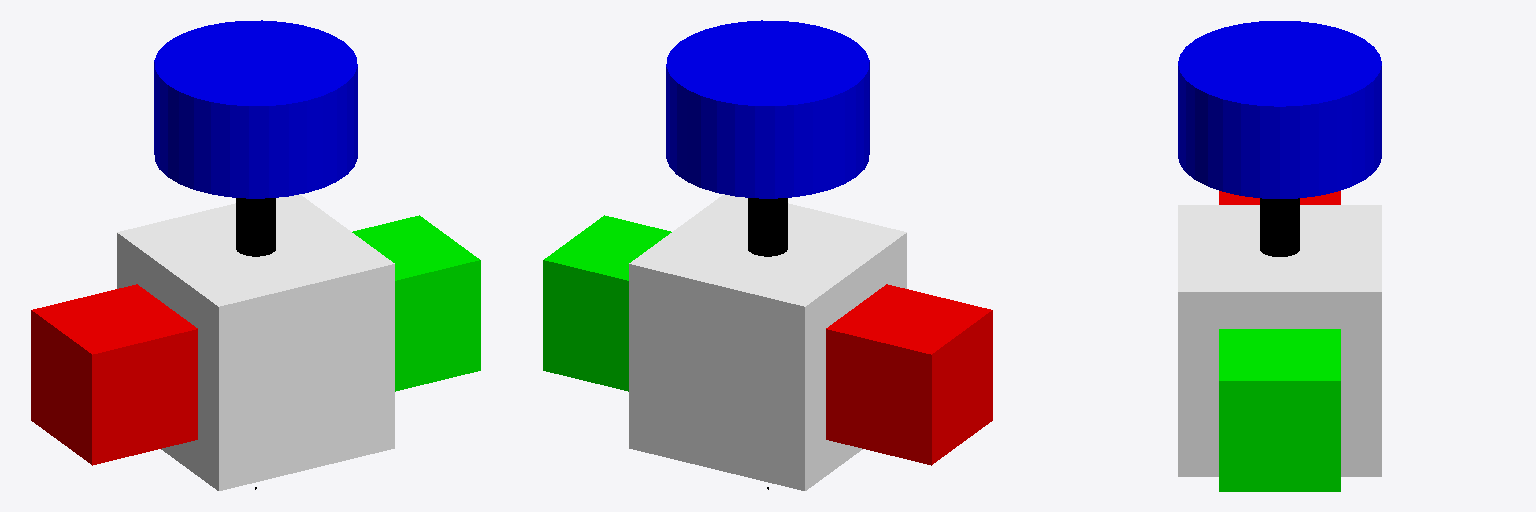
URDF robot description (sim-robot):
<?xml version="1.0" ?>
<!-- =================================================================================== -->
<!-- |    This document was autogenerated by xacro from [local-path]/ros_ws/sim-scene/src/scene/model/xacro/sim-robot.xacro | -->
<!-- |    EDITING THIS FILE BY HAND IS NOT RECOMMENDED                                 | -->
<!-- =================================================================================== -->
<robot name="sim-robot">
  <!-- foot base link -->
  <link name="base_footprint">
    <visual>
      <geometry>
        <box size="0.001 0.001 0.001"/>
      </geometry>
      <material name="black">
        <color rgba="0.0 0.0 0.0 0.8"/>
      </material>
    </visual>
  </link>
  <gazebo reference="base_footprint">
    <material>Gazebo/Black</material>
  </gazebo>
  <gazebo>
    <plugin filename="libgazebo_ros_p3d.so" name="base_footprint_pose">
      <alwaysOn>true</alwaysOn>
      <updateRate>10.0</updateRate>
      <bodyName>base_footprint</bodyName>
      <topicName>base_footprint_ground_truth</topicName>
      <gaussianNoise>0.0</gaussianNoise>
      <frameName>map</frameName>
      <xyzOffsets>0 0 0</xyzOffsets>
      <rpyOffsets>0 0 0</rpyOffsets>
    </plugin>
  </gazebo>
  <!-- base link -->
  <link name="base_link">
    <visual>
      <geometry>
        <box size="0.1 0.1 0.1"/>
      </geometry>
      <material name="white">
        <color rgba="1.0 1.0 1.0 0.8"/>
      </material>
    </visual>
    <collision>
      <geometry>
        <box size="0.1 0.1 0.1"/>
      </geometry>
      <origin rpy="0.0 0.0 0.0" xyz="0.0 0.0 0.0"/>
    </collision>
    <inertial>
      <mass value="0.5"/>
      <inertia ixx="0.0008333333333333335" ixy="0" ixz="0" iyy="0.0008333333333333335" iyz="0" izz="0.0008333333333333335"/>
    </inertial>
  </link>
  <gazebo>
    <plugin filename="libgazebo_ros_p3d.so" name="base_link_pose">
      <alwaysOn>true</alwaysOn>
      <updateRate>10.0</updateRate>
      <bodyName>base_link</bodyName>
      <topicName>base_link_ground_truth</topicName>
      <gaussianNoise>0.0</gaussianNoise>
      <frameName>map</frameName>
      <xyzOffsets>0 0 0</xyzOffsets>
      <rpyOffsets>0 0 0</rpyOffsets>
    </plugin>
  </gazebo>
  <gazebo reference="base_link">
    <material>Gazebo/White</material>
  </gazebo>
  <!-- joint -->
  <joint name="base_to_foot" type="fixed">
    <parent link="base_footprint"/>
    <child link="base_link"/>
    <origin rpy="0.0 0.0 0.0" xyz="0.0 0.0 0.08"/>
    <axis xyz="0.0 0.0 1.0"/>
  </joint>
  <!-- lidar -->
  <link name="arm">
    <visual>
      <geometry>
        <cylinder length="0.05" radius="0.01"/>
      </geometry>
      <origin rpy="0.0 0.0 0.0" xyz="0.0 0.0 0.0"/>
      <material name="black">
        <color rgba="0.0 0.0 0.0 0.8"/>
      </material>
    </visual>
    <collision>
      <geometry>
        <cylinder length="0.05" radius="0.01"/>
      </geometry>
      <origin rpy="0.0 0.0 0.0" xyz="0.0 0.0 0.0"/>
    </collision>
    <inertial>
      <mass value="0.01"/>
      <inertia ixx="2.3333333333333336e-06" ixy="0" ixz="0" iyy="2.3333333333333336e-06" iyz="0" izz="5.000000000000001e-07"/>
    </inertial>
  </link>
  <!-- joint -->
  <joint name="arm_to_base_link" type="fixed">
    <parent link="base_link"/>
    <child link="arm"/>
    <origin rpy="0.0 0.0 0.0" xyz="0.0 0.0 0.07500000000000001"/>
    <axis xyz="0.0 0.0 1.0"/>
  </joint>
  <gazebo reference="arm">
    <material>Gazebo/Black</material>
  </gazebo>
  <!-- lidar -->
  <link name="lidar">
    <visual>
      <geometry>
        <cylinder length="0.05" radius="0.05"/>
      </geometry>
      <origin rpy="0.0 0.0 0.0" xyz="0.0 0.0 0.0"/>
      <material name="blue">
        <color rgba="0.0 0.0 1.0 0.8"/>
      </material>
    </visual>
    <collision>
      <geometry>
        <cylinder length="0.05" radius="0.05"/>
      </geometry>
      <origin rpy="0.0 0.0 0.0" xyz="0.0 0.0 0.0"/>
    </collision>
    <inertial>
      <mass value="0.02"/>
      <inertia ixx="1.666666666666667e-05" ixy="0" ixz="0" iyy="1.666666666666667e-05" iyz="0" izz="2.5e-05"/>
    </inertial>
  </link>
  <!-- joint -->
  <joint name="lidar_to_arm" type="fixed">
    <parent link="arm"/>
    <child link="lidar"/>
    <origin rpy="0.0 0.0 0.0" xyz="0.0 0.0 0.05"/>
    <axis xyz="0.0 0.0 1.0"/>
  </joint>
  <gazebo reference="lidar">
    <material>Gazebo/Red</material>
  </gazebo>
  <!-- imu -->
  <link name="imu">
    <visual>
      <geometry>
        <box size="0.06 0.06 0.06"/>
      </geometry>
      <origin rpy="0.0 0.0 0.0" xyz="0.0 0.0 0.0"/>
      <material name="red">
        <color rgba="1.0 0.0 0.0 0.8"/>
      </material>
    </visual>
    <collision>
      <geometry>
        <box size="0.06 0.06 0.06"/>
      </geometry>
      <origin rpy="0.0 0.0 0.0" xyz="0.0 0.0 0.0"/>
    </collision>
    <inertial>
      <mass value="0.01"/>
      <inertia ixx="6e-06" ixy="0" ixz="0" iyy="6e-06" iyz="0" izz="6e-06"/>
    </inertial>
  </link>
  <!-- joint -->
  <joint name="imu_to_base_link" type="fixed">
    <parent link="base_link"/>
    <child link="imu"/>
    <origin rpy="0.0 0.0 0.0" xyz="-0.08 0.0 0.0"/>
    <axis xyz="0.0 0.0 1.0"/>
  </joint>
  <gazebo reference="imu">
    <material>Gazebo/Green</material>
  </gazebo>
  <!-- camera -->
  <link name="camera">
    <visual>
      <geometry>
        <box size="0.06 0.06 0.06"/>
      </geometry>
      <origin rpy="0.0 0.0 0.0" xyz="0.0 0.0 0.0"/>
      <material name="green">
        <color rgba="0.0 1.0 0.0 0.8"/>
      </material>
    </visual>
    <collision>
      <geometry>
        <box size="0.06 0.06 0.06"/>
      </geometry>
      <origin rpy="0.0 0.0 0.0" xyz="0.0 0.0 0.0"/>
    </collision>
    <inertial>
      <mass value="0.01"/>
      <inertia ixx="6e-06" ixy="0" ixz="0" iyy="6e-06" iyz="0" izz="6e-06"/>
    </inertial>
  </link>
  <!-- joint -->
  <joint name="camera_to_base_link" type="fixed">
    <parent link="base_link"/>
    <child link="camera"/>
    <origin rpy="0.0 1.57079632675 0.0" xyz="0.08 0.0 0.0"/>
    <axis xyz="0.0 0.0 1.0"/>
  </joint>
  <gazebo reference="camera">
    <material>Gazebo/Blue</material>
  </gazebo>
  <gazebo reference="lidar">
    <sensor name="vodyne16" type="ray">
      <pose>0 0 0 0 0 0</pose>
      <visualize>false</visualize>
      <update_rate>10.0</update_rate>
      <ray>
        <scan>
          <horizontal>
            <samples>1800</samples>
            <resolution>0.2</resolution>
            <min_angle>-3.1415926535</min_angle>
            <max_angle> 3.1415926535</max_angle>
          </horizontal>
          <vertical>
            <samples>32</samples>
            <resolution>1</resolution>
            <min_angle>-0.5235987755833333</min_angle>
            <max_angle> 0.5235987755833333</max_angle>
          </vertical>
        </scan>
        <range>
          <min>0.10</min>
          <max>30.0</max>
          <resolution>0.001</resolution>
        </range>
        <noise>
          <type>gaussian</type>
          <mean>0.0</mean>
          <stddev>0.000</stddev>
        </noise>
      </ray>
      <plugin filename="libgazebo_ros_velodyne_laser.so" name="gazebo_rplidar">
        <topicName>/sim_lidar/frame</topicName>
        <frameName>/lidar</frameName>
        <organize_cloud>true</organize_cloud>
        <min_range>0.10</min_range>
        <max_range>30.0</max_range>
        <gaussianNoise>0.0</gaussianNoise>
      </plugin>
    </sensor>
  </gazebo>
  <!-- <gazebo reference="imu">
    <gravity>true</gravity>
    <sensor name="imu_sensor" type="imu">
      <always_on>true</always_on>
      <update_rate>400.0</update_rate>
      <visualize>true</visualize>
      <topic>__default_topic__</topic>
      <plugin filename="libgazebo_ros_imu_sensor.so" name="imu_plugin">
        <topicName>/sim_imu/frame</topicName>
        <bodyName>imu</bodyName>
        <updateRateHZ>400.0</updateRateHZ>
        <gaussianNoise>0.0</gaussianNoise>
        <xyzOffset>0 0 0</xyzOffset>
        <rpyOffset>0 0 0</rpyOffset>
        <frameName>imu</frameName>
        <initialOrientationAsReference>false</initialOrientationAsReference>
      </plugin>
      <pose>0 0 0 0 0 0</pose>
    </sensor>
  </gazebo> -->
  <gazebo reference="camera">
    <sensor name="camera_node" type="camera">
      <update_rate>10.0</update_rate>
      <camera name="head">
        <horizontal_fov>1.3962634</horizontal_fov>
        <image>
          <width>1280</width>
          <height>720</height>
          <format>R8G8B8</format>
        </image>
        <clip>
          <near>0.02</near>
          <far>300</far>
        </clip>
        <noise>
          <type>gaussian</type>
          <mean>0.0</mean>
          <stddev>0.0</stddev>
        </noise>
      </camera>
      <plugin filename="libgazebo_ros_camera.so" name="gazebo_camera">
        <alwaysOn>true</alwaysOn>
        <updateRate>10.0</updateRate>
        <cameraName>/sim_camera</cameraName>
        <imageTopicName>frame</imageTopicName>
        <cameraInfoTopicName>camera_info</cameraInfoTopicName>
        <frameName>camera</frameName>
        <hackBaseline>0.07</hackBaseline>
        <distortionK1>0.0</distortionK1>
        <distortionK2>0.0</distortionK2>
        <distortionK3>0.0</distortionK3>
        <distortionT1>0.0</distortionT1>
        <distortionT2>0.0</distortionT2>
      </plugin>
    </sensor>
  </gazebo>
  <!-- <xacro:include filename="wheels.xacro" /> -->
  <!-- <xacro:include filename="motion.xacro" /> -->
</robot>

--- Render facts (derived) ---
The picture shows the robot from 3 angles, left to right: view 1: azimuth 30°, elevation 25°; view 2: azimuth 150°, elevation 25°; view 3: azimuth 270°, elevation 25°; orthographic projection.
Robot: sim-robot — 6 links, 5 joints (5 fixed); root link base_footprint; default pose: all joints at 0.
Links seen in each view (by area): view 1: base_link, lidar, imu, camera, arm; view 2: base_link, lidar, imu, camera, arm; view 3: base_link, lidar, camera, arm, imu.
Link boxes in pixels (x1,y1,x2,y2): base_link: (117,194,394,490); lidar: (154,20,357,198); imu: (31,284,197,465); camera: (352,215,480,391); arm: (236,198,275,256); base_link: (629,194,906,490); lidar: (666,20,869,198); imu: (826,284,992,465); camera: (543,215,671,391); arm: (748,198,787,256); base_link: (1178,205,1381,476); lidar: (1178,21,1381,198); camera: (1219,329,1340,491); arm: (1260,198,1299,256); imu: (1219,191,1340,204).
Bounding box of the posed robot: 0.22 × 0.1 × 0.2305 m (x, y, z).
Geometry: primitives only (box / cylinder / sphere), no mesh files.
